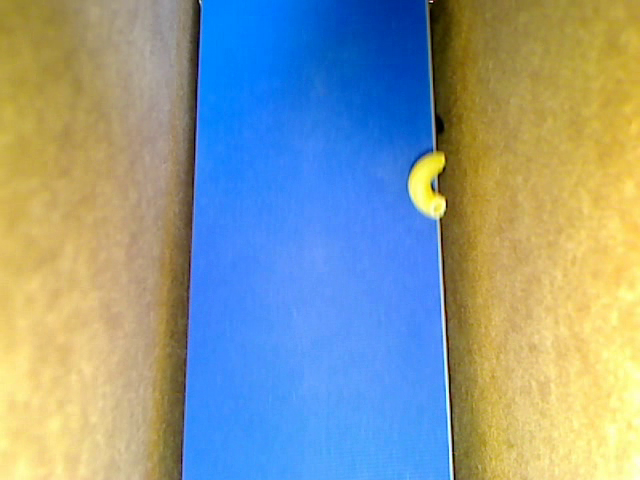elbow: (406, 151, 446, 219)
